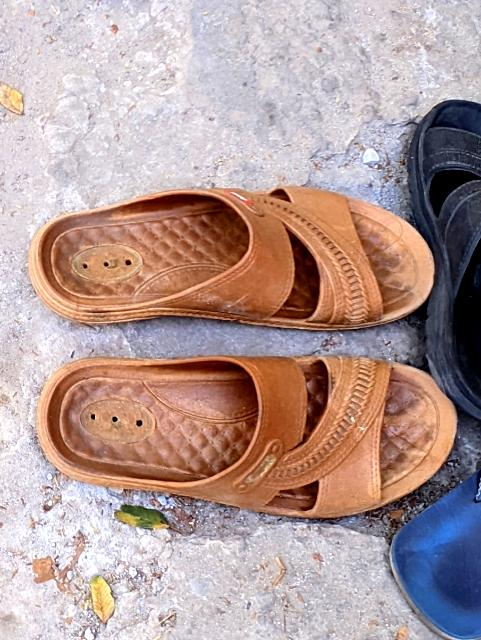sandal: (33, 332, 439, 526), (23, 178, 425, 326)
